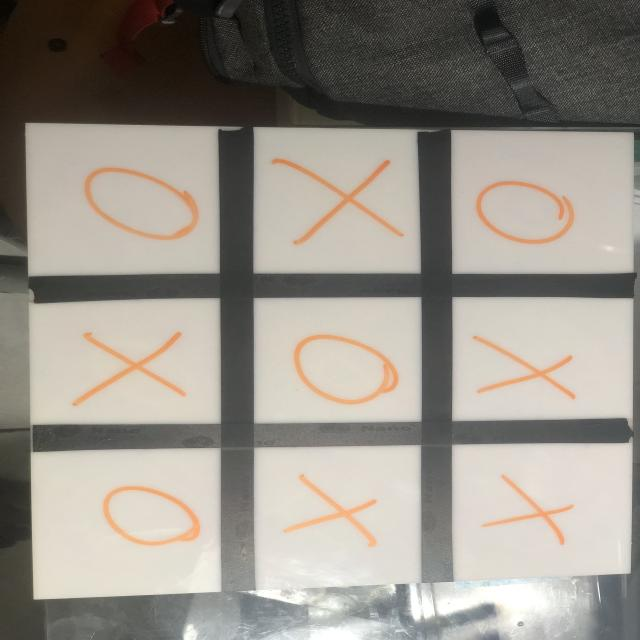o: (80, 165, 201, 241), (289, 328, 398, 408), (476, 179, 581, 248), (100, 484, 198, 554)
table: (16, 122, 639, 610)
x: (275, 153, 406, 242), (71, 326, 188, 405), (280, 473, 382, 552), (477, 335, 578, 404), (481, 471, 573, 545)
